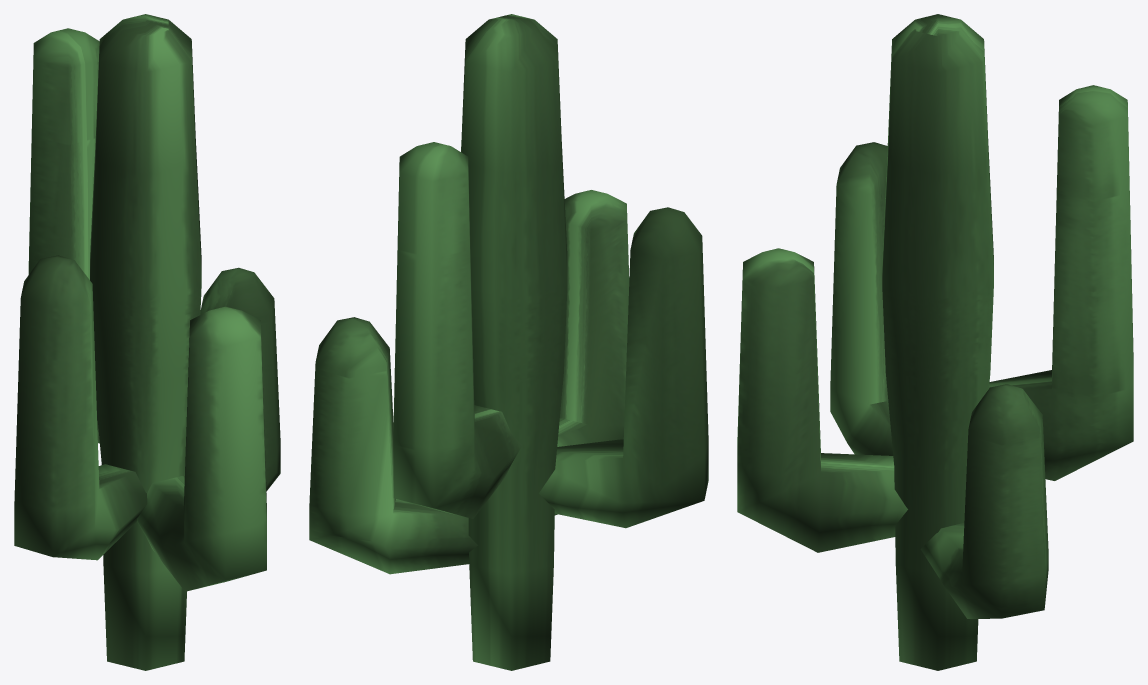
The model's file is Cactus_5.FBX.
The picture shows the model from 3 angles, left to right: view 1: azimuth 30°, elevation 25°; view 2: azimuth 150°, elevation 25°; view 3: azimuth 270°, elevation 25°; orthographic projection.
Visible parts, largest first — view 1: Cactus_5; view 2: Cactus_5; view 3: Cactus_5.
Boxes of the visible parts, box(x1,y1,x2,y2) form: Cactus_5: box(14, 14, 280, 670); Cactus_5: box(309, 14, 708, 670); Cactus_5: box(737, 14, 1133, 670).
Size of the model in its own units: 6.83 by 7.14 by 12.57.
